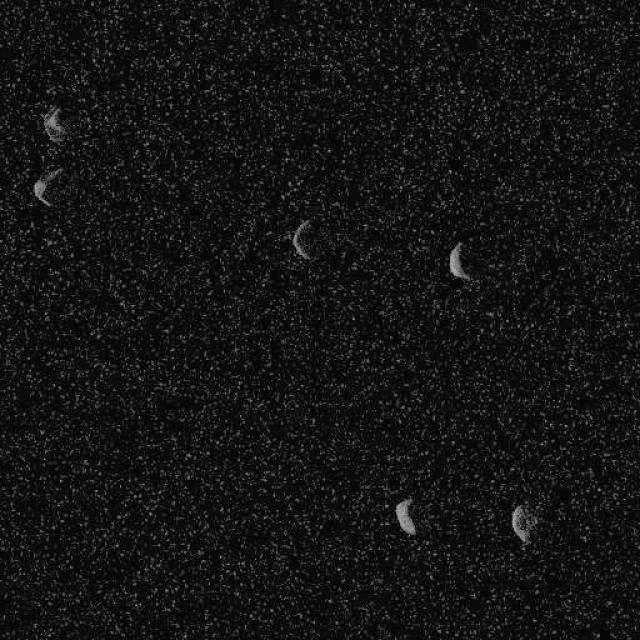D2: (31, 165, 64, 207), (290, 218, 316, 260), (40, 104, 66, 144), (448, 240, 472, 281), (510, 504, 532, 545), (394, 496, 416, 536)
